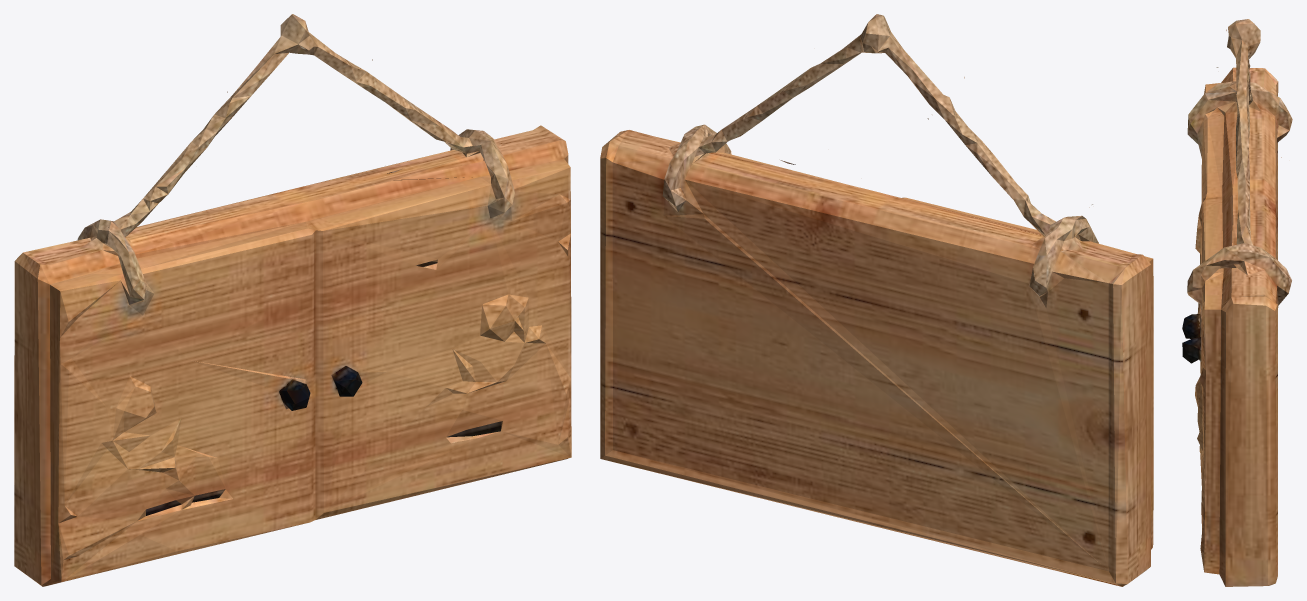
The model's file is sign_blank_rope_lod0.glb.
3 renders of one model, left to right at view 1: azimuth 30°, elevation 25°; view 2: azimuth 150°, elevation 25°; view 3: azimuth 270°, elevation 25°, orthographic. The views are drawn at different scales.
Parts seen in each view (by area): view 1: sign_blank_rope_lod0; view 2: sign_blank_rope_lod0; view 3: sign_blank_rope_lod0.
Boxes of the visible parts, bbox=[...] form: sign_blank_rope_lod0: bbox=[14, 14, 571, 586]; sign_blank_rope_lod0: bbox=[600, 14, 1153, 586]; sign_blank_rope_lod0: bbox=[1182, 19, 1292, 586].
Bounding box in the file's own units: 0.9068 × 0.817 × 0.1806.
Materials: 1 (1 with a texture image).
